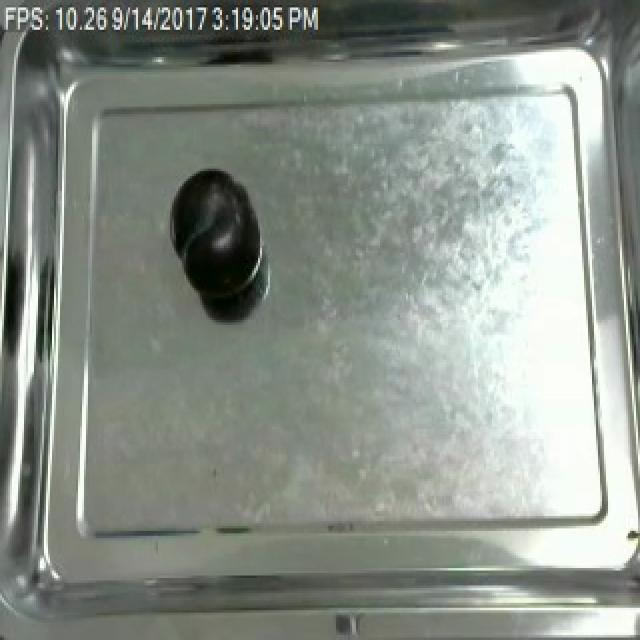Fruit: (168, 166, 258, 308)
